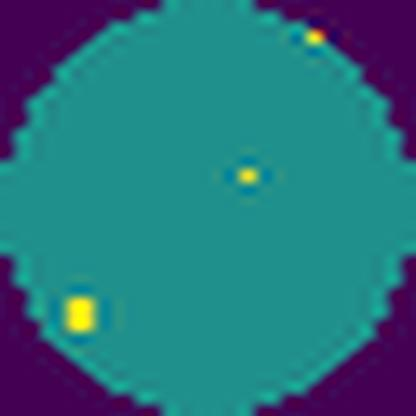Loc: (65, 294, 98, 334)
